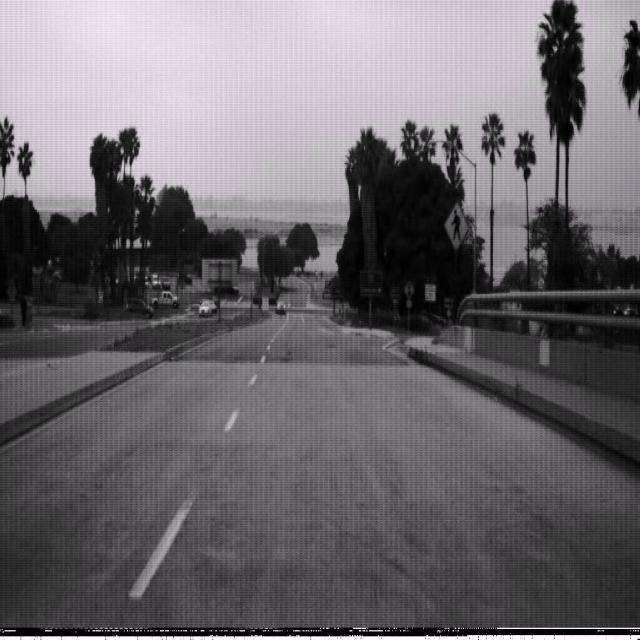pedestrianCrossing: (444, 200, 469, 251)
